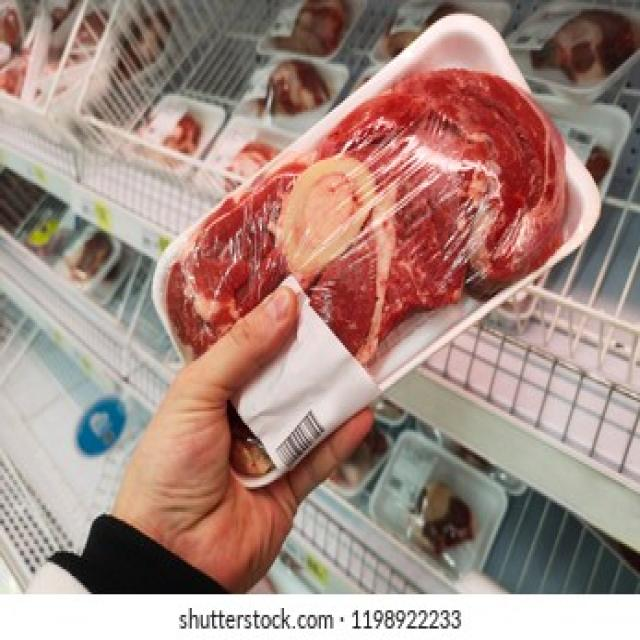pork: (118, 63, 594, 447)
